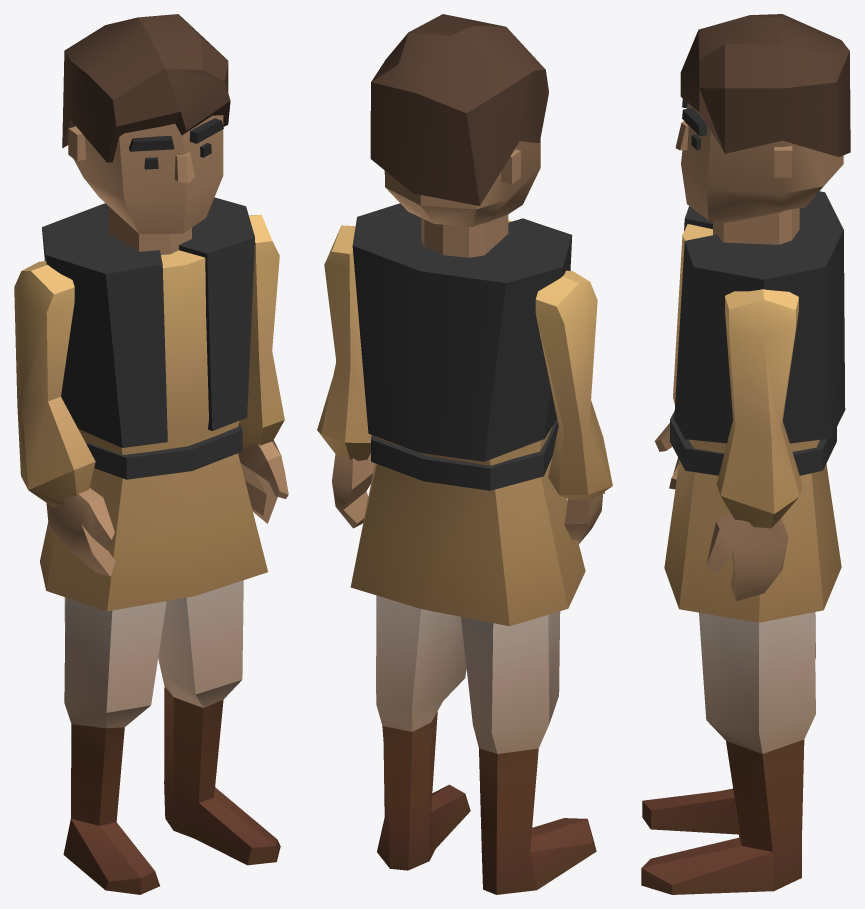
Rendered from PeasantMale_1.fbx.
The picture shows the model from 3 angles, left to right: view 1: azimuth 30°, elevation 25°; view 2: azimuth 150°, elevation 25°; view 3: azimuth 270°, elevation 25°; orthographic projection. The views are drawn at different scales.
Parts seen in each view (by area): view 1: PeasantMale_1; view 2: PeasantMale_1; view 3: PeasantMale_1.
Boxes of the visible parts, x1,y1,x2,y2 form: PeasantMale_1: [14, 14, 288, 894]; PeasantMale_1: [317, 14, 612, 894]; PeasantMale_1: [641, 14, 850, 894].
Bounding box in the file's own units: 39.41 × 115 × 26.07.
